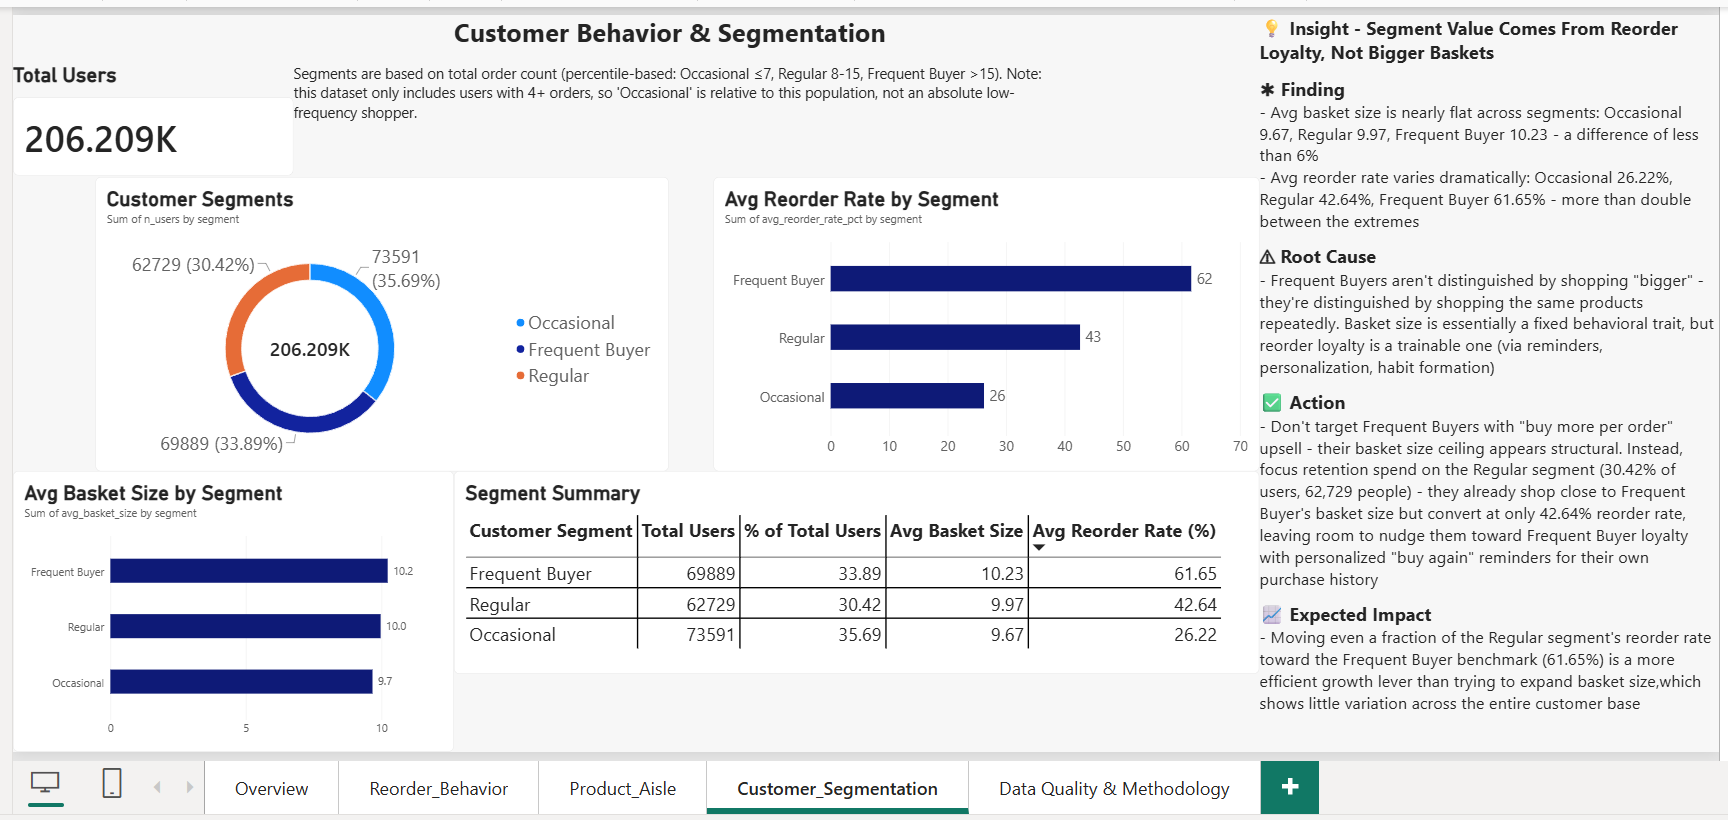

The dashboard page shown, as its layout file describes it:
{"tool":"powerbi","page":{"name":"Customer_Segmentation","canvas":[2500,1080],"ordinal":3},"visuals":[{"type":"textbox","box":[645.7,0,637.1,71.4],"z":0},{"type":"cardVisual","title":"Total Users","fields":{"Data":["Sum(mart_customer_segment.n_users)"]},"box":[0,71.4,411.4,165.7],"z":1000},{"type":"donutChart","title":"Customer Segments","fields":{"Category":["mart_customer_segment.segment"],"Y":["Sum(mart_customer_segment.n_users)"]},"box":[120,237.1,840,431.4],"z":2000},{"type":"clusteredBarChart","title":"Avg Basket Size by Segment","fields":{"Category":["mart_customer_segment.segment"],"Y":["Sum(mart_customer_segment.avg_basket_size)"]},"box":[0,668.6,645.7,411.4],"z":3000},{"type":"clusteredBarChart","title":"Avg Reorder Rate by Segment","fields":{"Category":["mart_customer_segment.segment"],"Y":["Sum(mart_customer_segment.avg_reorder_rate_pct)"]},"box":[1025.7,237.1,800,431.4],"z":4000},{"type":"tableEx","title":"Segment Summary","fields":{"Values":["mart_customer_segment.segment","Sum(mart_customer_segment.n_users)","Sum(mart_customer_segment.pct_of_total)","Sum(mart_customer_segment.avg_basket_size)","Sum(mart_customer_segment.avg_reorder_rate_pct)"]},"box":[645.7,668.6,1274.3,274.3],"z":5000},{"type":"textbox","box":[411.4,71.4,1102.9,102.9],"z":6000},{"type":"textbox","box":[1920,0,580,1080],"z":6001}]}

Visuals, with their boxes on the page's 2500x1080 design canvas (x1, y1, x2, y2). These are canvas units, not pixel positions in the 1728x820 screenshot, which may show the page scaled, cropped or inside an application window:
textbox: l=646, t=0, r=1283, b=71
"Total Users" cardVisual: l=0, t=71, r=411, b=237
"Customer Segments" donutChart: l=120, t=237, r=960, b=668
"Avg Basket Size by Segment" clusteredBarChart: l=0, t=669, r=646, b=1080
"Avg Reorder Rate by Segment" clusteredBarChart: l=1026, t=237, r=1826, b=668
"Segment Summary" tableEx: l=646, t=669, r=1920, b=943
textbox: l=411, t=71, r=1514, b=174
textbox: l=1920, t=0, r=2500, b=1080
